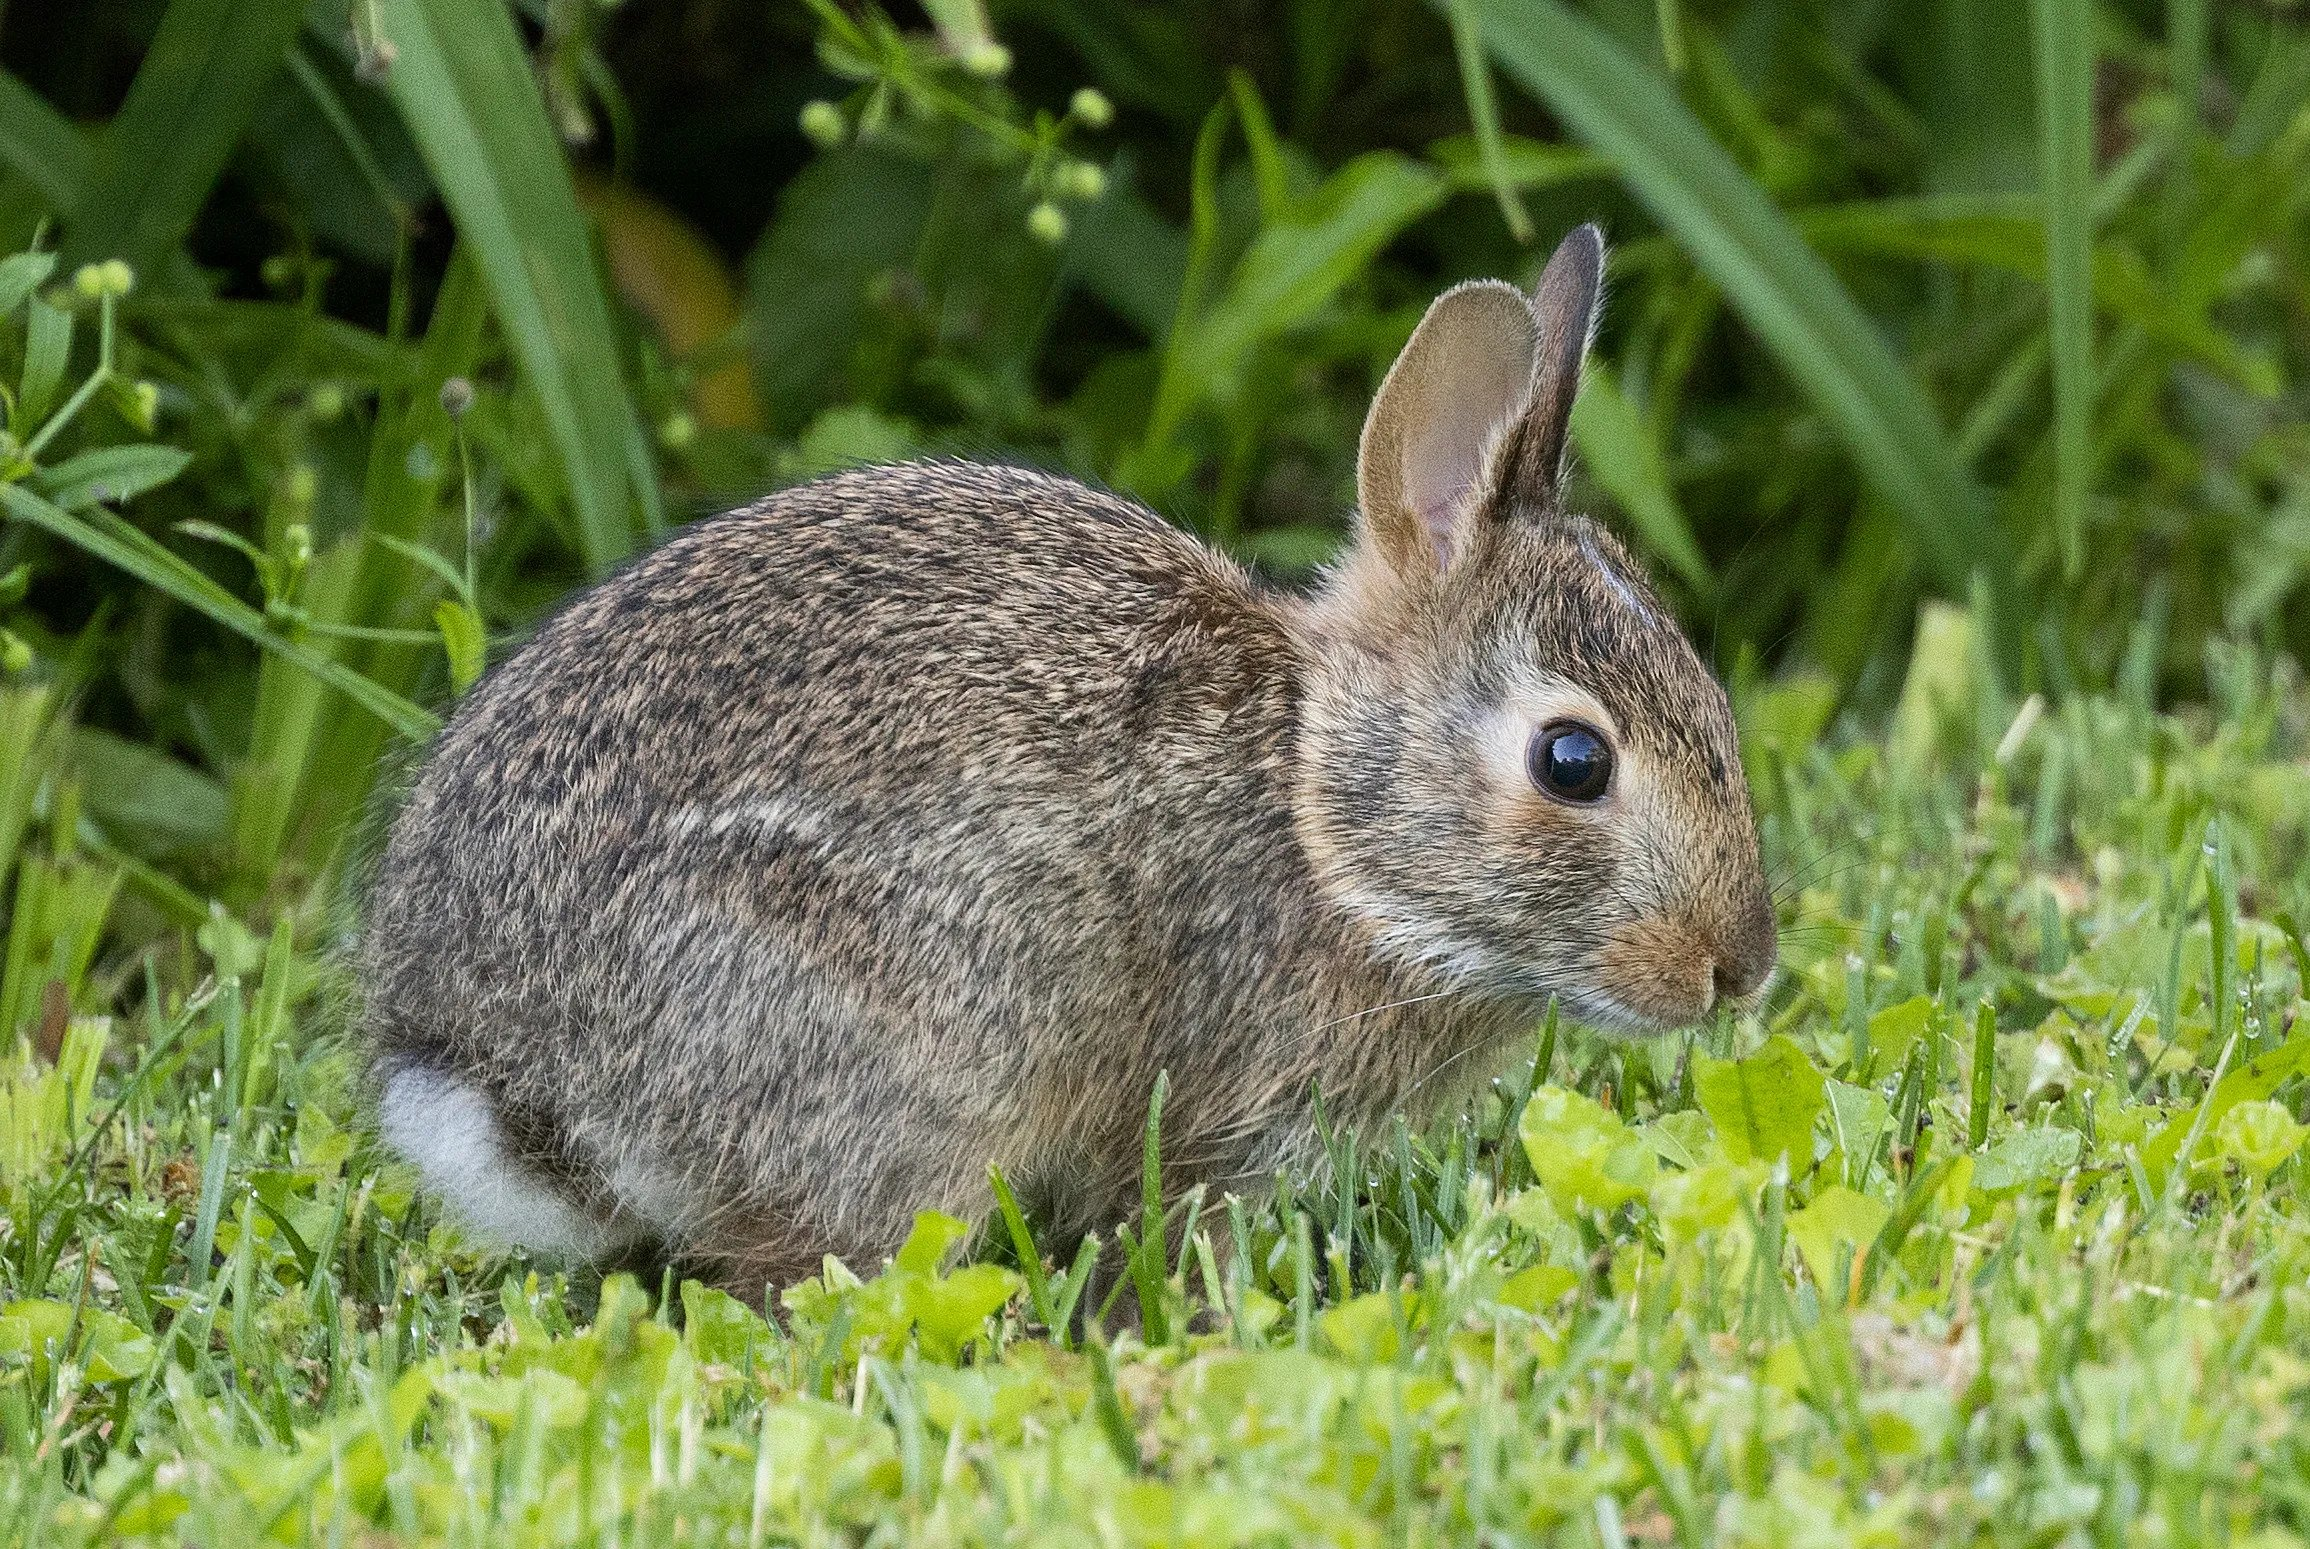rabbit: (346, 233, 1777, 1257)
